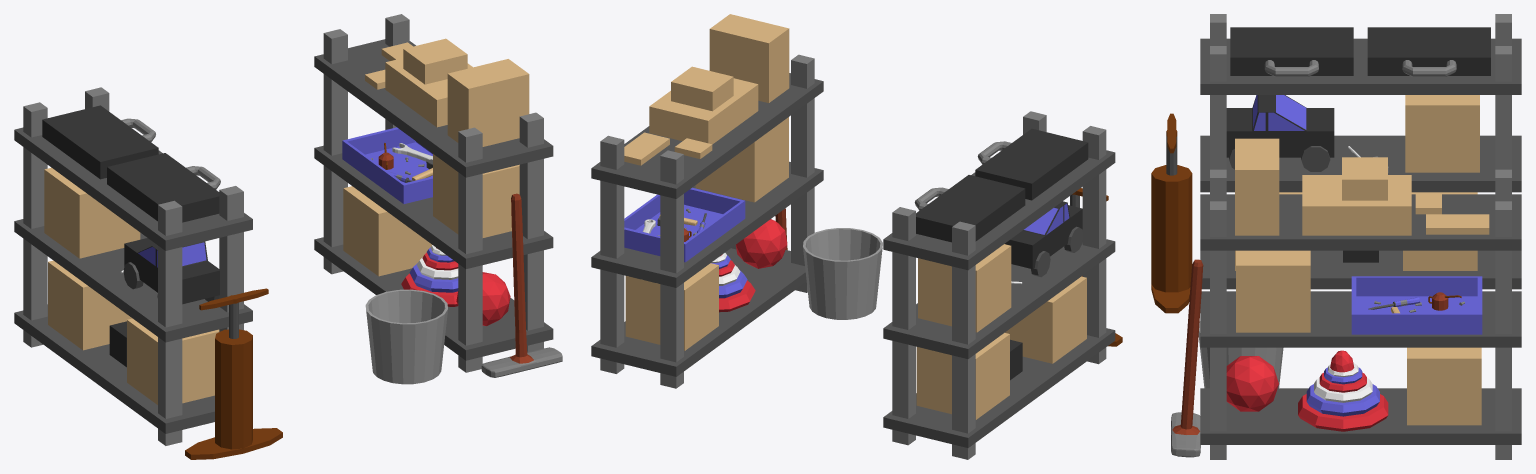
The model's file is Kladovochka.fbx.
3 renders of one model, left to right at view 1: azimuth 30°, elevation 25°; view 2: azimuth 150°, elevation 25°; view 3: azimuth 270°, elevation 25°, orthographic. The views are drawn at different scales.
Visible parts, largest first — view 1: Cube, Cube.001, Cylinder.002, Cylinder.001, Cube.006, Cube.019, Cube.018, Cube.004, Cube.002, Cube.011, Cube.005, Cube.007 (+8 smaller); view 2: Cube.001, Cube, Cylinder.002, Cube.006, Cube.018, Cube.019, Cube.002, Cube.004, Cube.005, Cube.007, Cube.011, Cube.003 (+7 smaller); view 3: Cube, Cube.001, Cube.007, Cylinder.001, Cube.003, Cube.019, Cube.018, Cube.002, Cube.004, Cube.016, Cube.012, Torus.003 (+9 smaller).
Part boxes in pixels (x1=…): Cube: x1=314, y1=14, x2=553, y2=372; Cube.001: x1=14, y1=87, x2=252, y2=445; Cylinder.002: x1=365, y1=289, x2=447, y2=384; Cylinder.001: x1=185, y1=288, x2=282, y2=459; Cube.006: x1=447, y1=59, x2=529, y2=146; Cube.019: x1=42, y1=105, x2=158, y2=179; Cube.018: x1=107, y1=153, x2=220, y2=222; Cube.004: x1=44, y1=167, x2=140, y2=258; Cube.002: x1=343, y1=186, x2=431, y2=276; Cube.011: x1=127, y1=318, x2=219, y2=404; Cube.005: x1=48, y1=260, x2=132, y2=350; Cube.007: x1=342, y1=127, x2=432, y2=203; Cube.001: x1=883, y1=111, x2=1115, y2=459; Cube: x1=591, y1=54, x2=823, y2=388; Cylinder.002: x1=803, y1=228, x2=882, y2=319; Cube.006: x1=709, y1=14, x2=789, y2=102; Cube.018: x1=975, y1=128, x2=1088, y2=200; Cube.019: x1=914, y1=175, x2=1025, y2=242; Cube.002: x1=625, y1=263, x2=718, y2=350; Cube.004: x1=918, y1=244, x2=1011, y2=332; Cube.005: x1=916, y1=332, x2=1009, y2=419; Cube.007: x1=624, y1=187, x2=745, y2=262; Cube.011: x1=1005, y1=276, x2=1086, y2=363; Cube.003: x1=695, y1=117, x2=788, y2=202; Cube: x1=1200, y1=169, x2=1521, y2=459; Cube.001: x1=1200, y1=14, x2=1521, y2=289; Cube.007: x1=1351, y1=276, x2=1482, y2=334; Cylinder.001: x1=1151, y1=113, x2=1192, y2=313; Cube.003: x1=1236, y1=250, x2=1310, y2=332; Cube.019: x1=1367, y1=27, x2=1490, y2=76; Cube.018: x1=1230, y1=27, x2=1353, y2=76; Cube.002: x1=1407, y1=347, x2=1481, y2=425; Cube.004: x1=1405, y1=95, x2=1479, y2=172; Cube.016: x1=1226, y1=95, x2=1334, y2=171; Cube.012: x1=1302, y1=175, x2=1411, y2=235; Torus.003: x1=1298, y1=350, x2=1388, y2=431.
Bounding box in the file's own units: 310 × 208 × 242.
